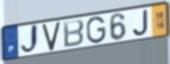6: (109, 11, 128, 42)
B: (63, 18, 86, 49)
G: (85, 15, 107, 45)
J: (20, 23, 40, 57), (132, 9, 149, 37)
V: (41, 20, 62, 52)
